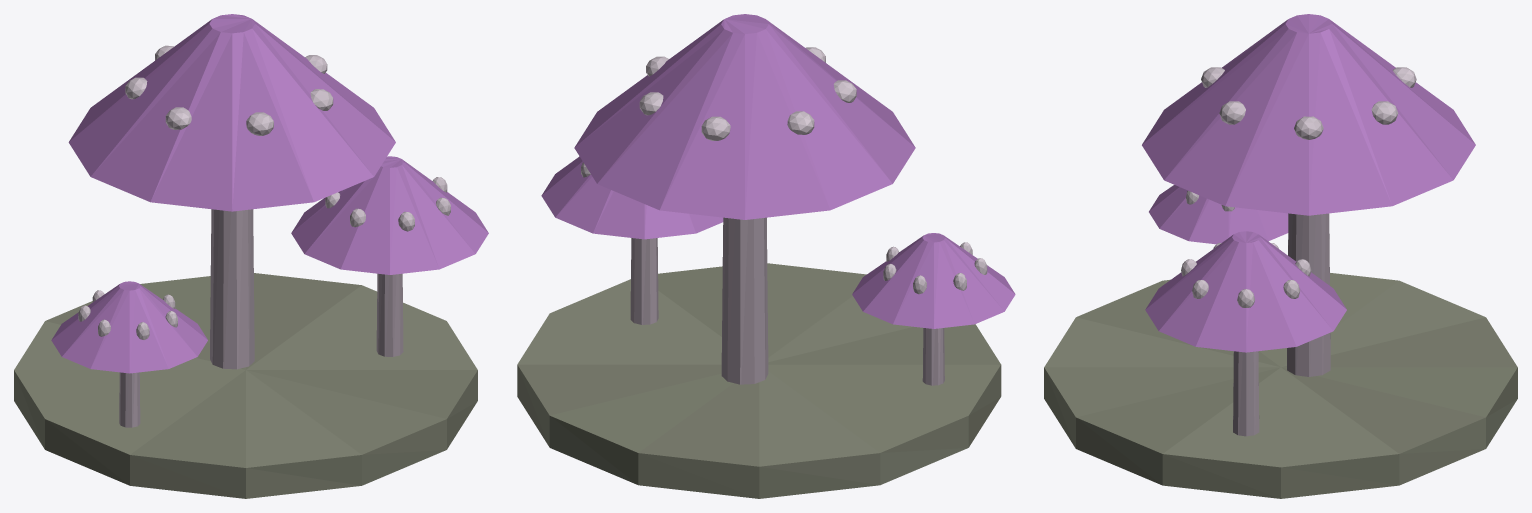
Rendered from mushrooms_violet.glb.
3 renders of one model, left to right at view 1: azimuth 30°, elevation 25°; view 2: azimuth 150°, elevation 25°; view 3: azimuth 270°, elevation 25°, orthographic. The views are drawn at different scales.
Visible parts, largest first — view 1: base, big_cap, small_right_cap, small_left_cap, big_stem, small_right_stem, small_left_stem, big_spot5; view 2: base, big_cap, small_left_cap, big_stem, small_right_cap, small_right_stem, small_left_stem, big_spot2; view 3: base, big_cap, small_right_cap, small_left_cap, big_stem, small_right_stem, big_spot0.
Part boxes in pixels (x1=…): base: x1=14, y1=273, x2=477, y2=498; big_cap: x1=68, y1=14, x2=395, y2=211; small_right_cap: x1=291, y1=156, x2=488, y2=274; small_left_cap: x1=51, y1=281, x2=207, y2=373; big_stem: x1=210, y1=209, x2=254, y2=369; small_right_stem: x1=376, y1=273, x2=403, y2=356; small_left_stem: x1=119, y1=372, x2=140, y2=427; big_spot5: x1=246, y1=112, x2=273, y2=135; base: x1=517, y1=263, x2=1001, y2=498; big_cap: x1=574, y1=14, x2=915, y2=219; small_left_cap: x1=852, y1=233, x2=1015, y2=328; big_stem: x1=721, y1=217, x2=768, y2=384; small_right_cap: x1=541, y1=156, x2=723, y2=239; small_right_stem: x1=630, y1=238, x2=658, y2=324; small_left_stem: x1=922, y1=328, x2=944, y2=385; big_spot2: x1=701, y1=116, x2=730, y2=140; base: x1=1044, y1=273, x2=1517, y2=498; big_cap: x1=1142, y1=14, x2=1475, y2=215; small_right_cap: x1=1145, y1=231, x2=1346, y2=352; small_left_cap: x1=1149, y1=185, x2=1288, y2=244; big_stem: x1=1287, y1=213, x2=1330, y2=376; small_right_stem: x1=1233, y1=351, x2=1259, y2=436; big_spot0: x1=1294, y1=116, x2=1323, y2=139.
Bounding box in the file's own units: 1.43 × 1.19 × 1.36.
